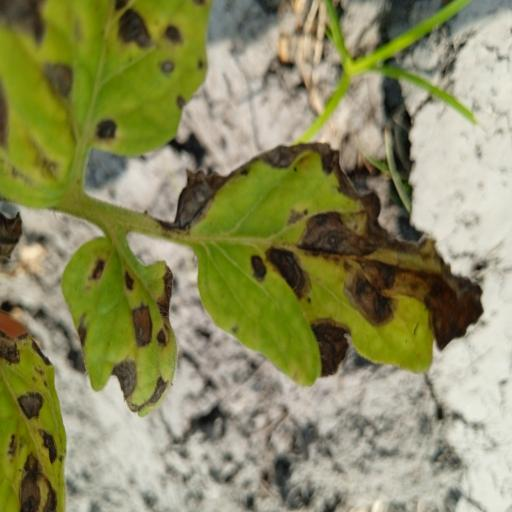Tomato_Brown_Spots: (177, 136, 480, 389), (0, 0, 224, 202), (61, 228, 182, 420)
